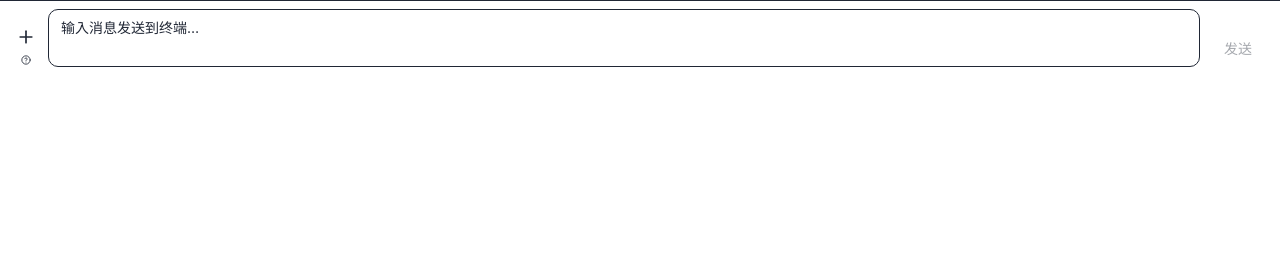
Test: CodexSendFlow：30 秒截止与待确认（S5） › accepted_unbound：核对 accepted_unbound → 只给「解除运行限制」，不给重发；解除走 force-continue 且不重发原消息
Type "继续跑" into the text box with test id "composer-input" at (624, 38), box [48,9,1200,67]
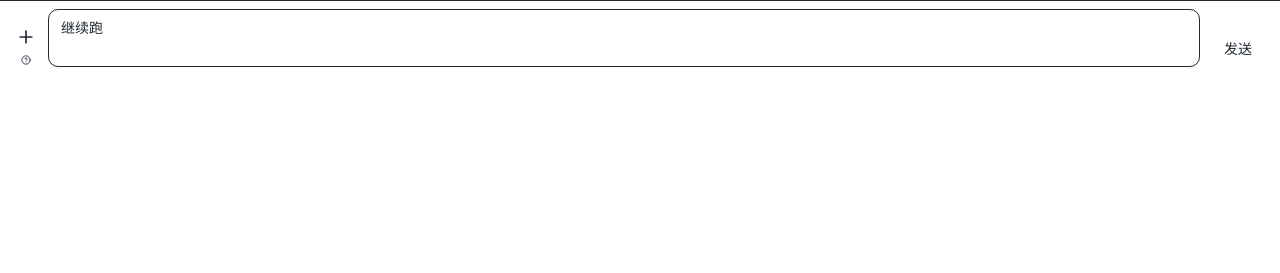
Click the button with test id "composer-send" at (1238, 49), box [1208,31,1268,67]
Wait 30000 ms
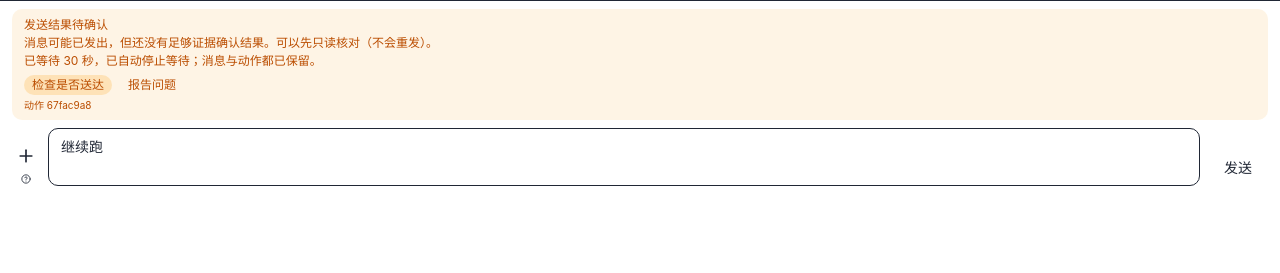
Click the button with test id "codex-recovery-check" at (68, 85), box [24,75,112,95]
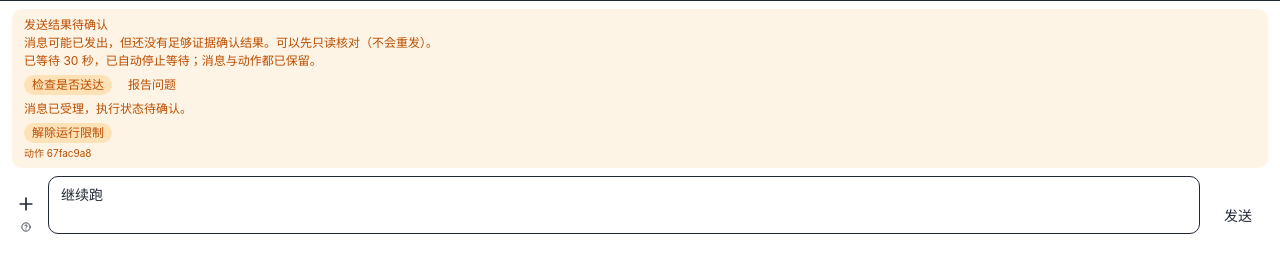
Expected: the text with test id "codex-recovery-result" shows "已受理", [24,101,192,116]
//  只解除运行限制
Click the button with test id "codex-recovery-release" at (68, 133), box [24,123,112,143]
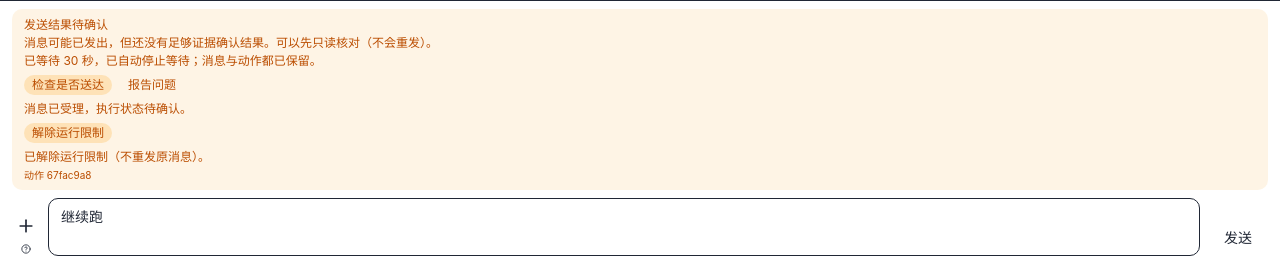
Expected: the text with test id "codex-recovery-result" shows "已受理", [24,101,192,116]
Expected: the text with test id "codex-recovery-note" shows "已解除运行限制", [24,149,210,164]
